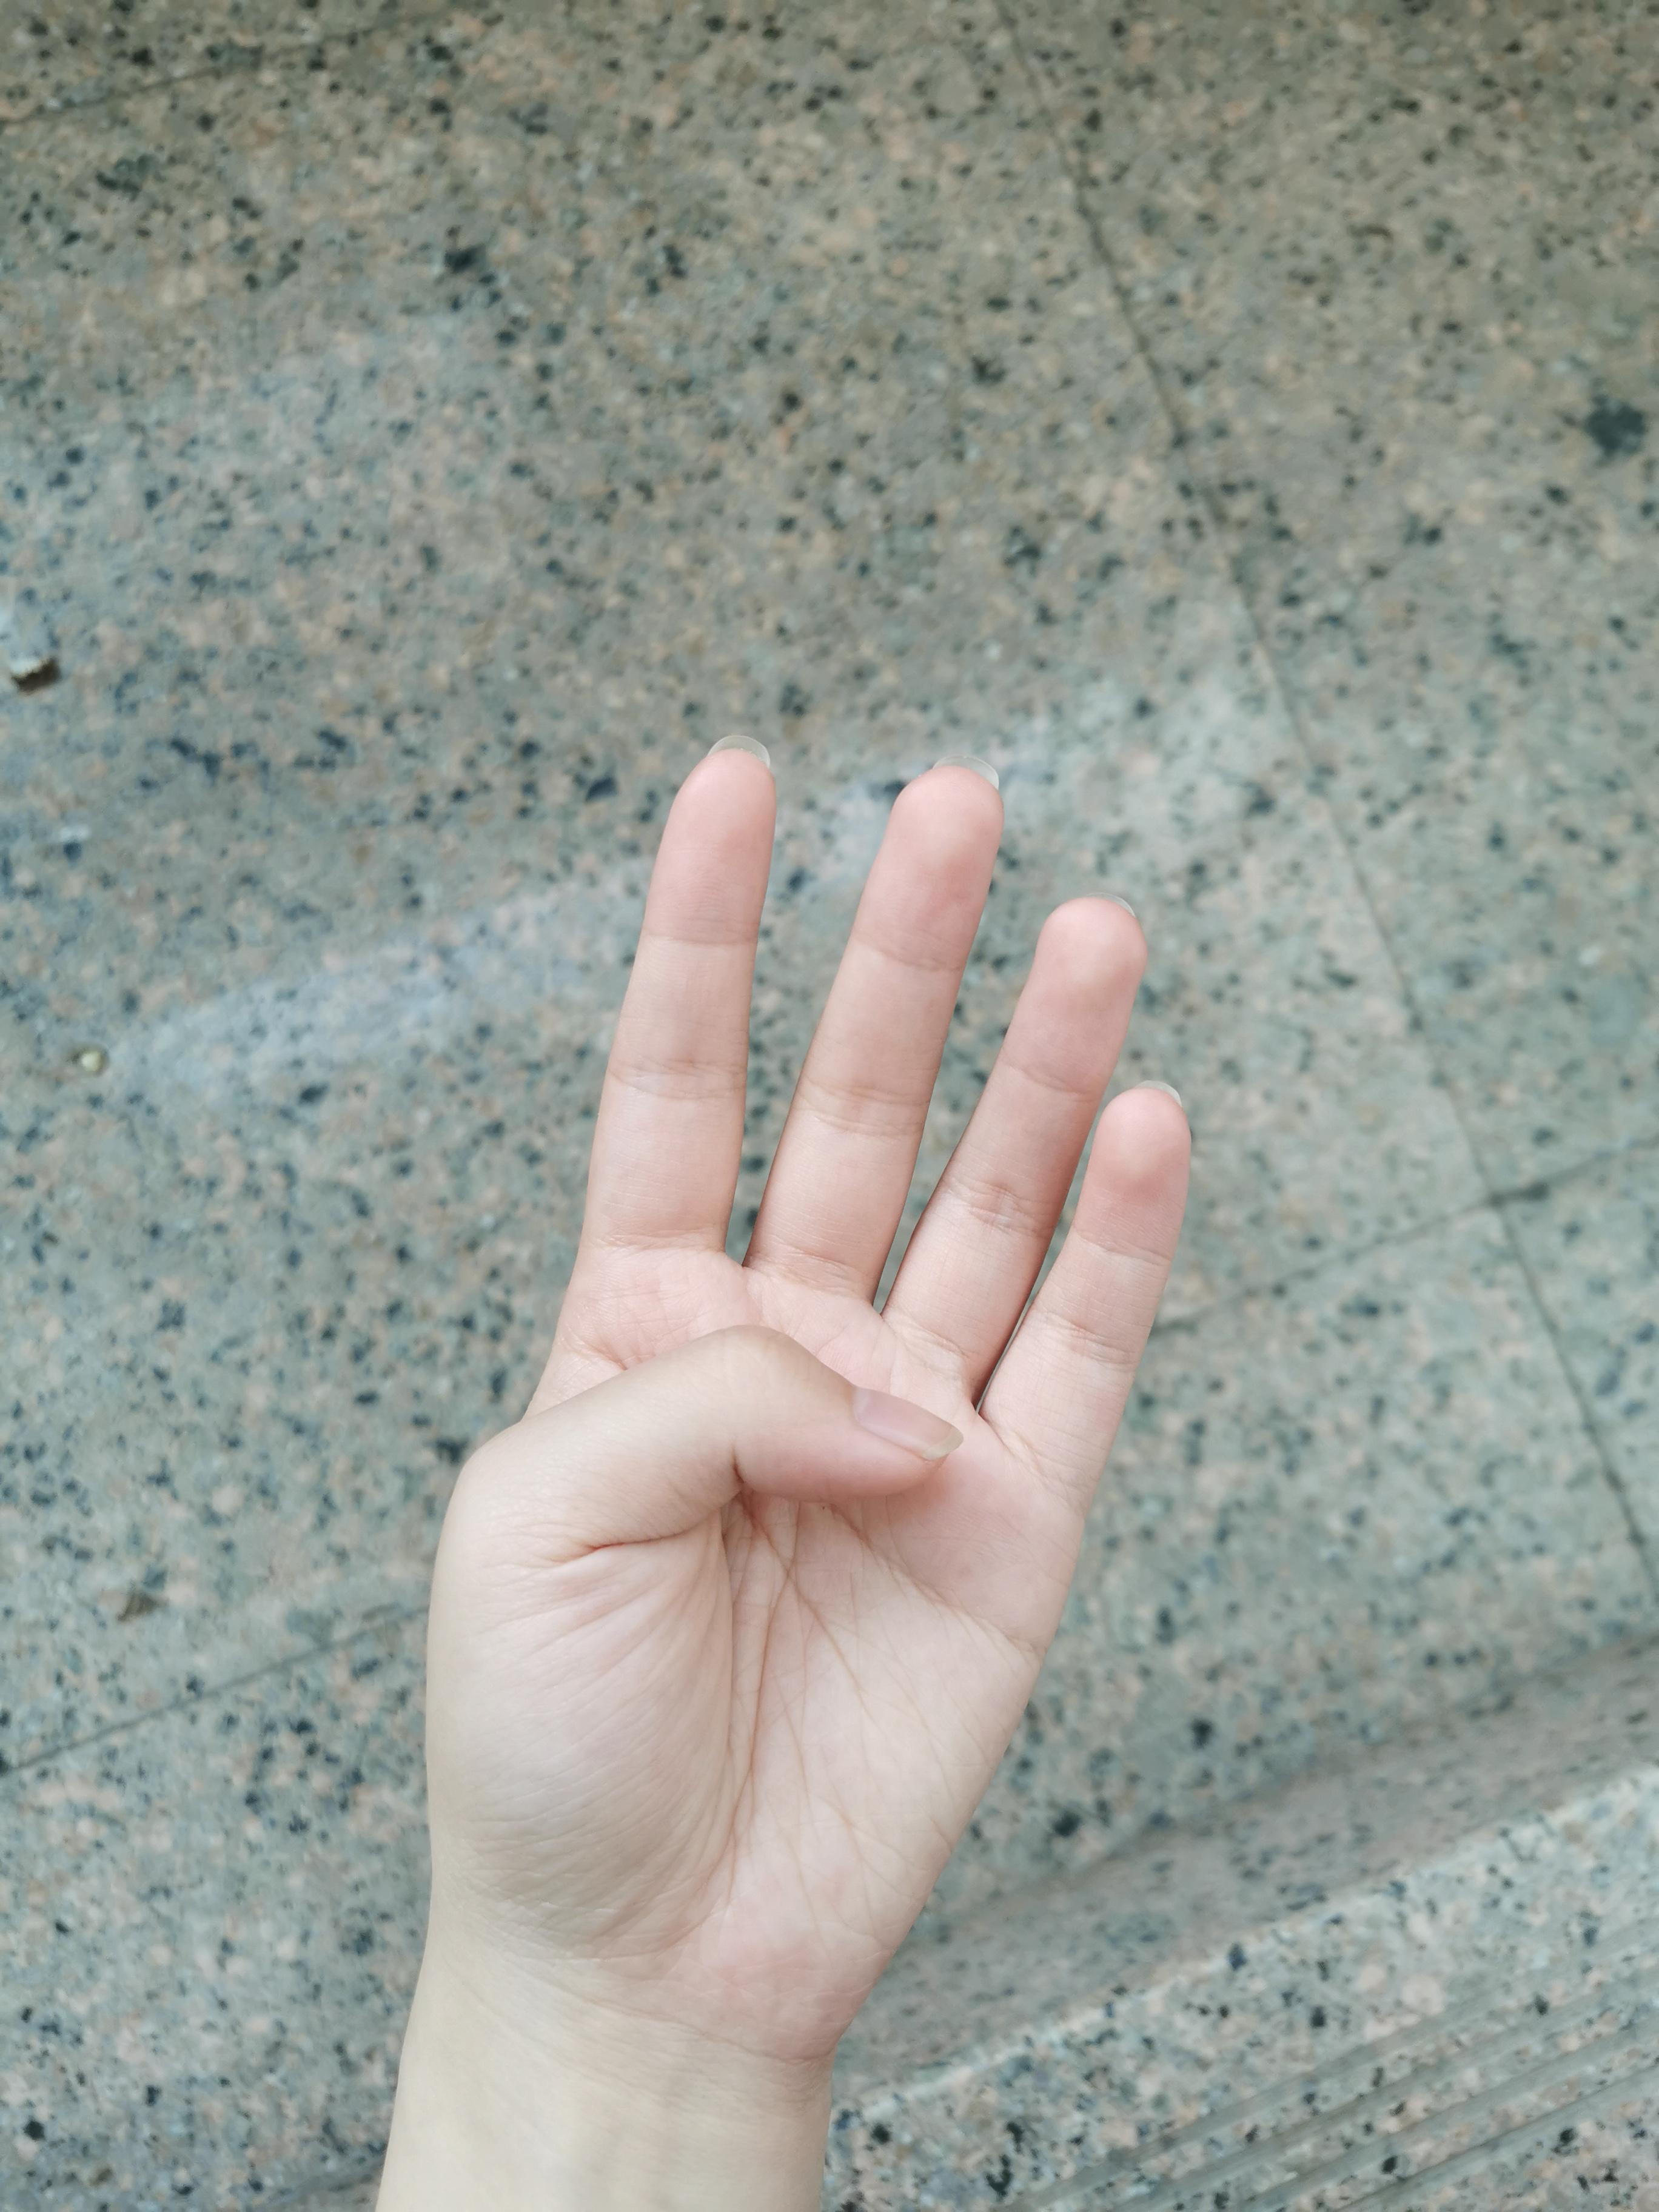right: (387, 725, 1265, 1911)
